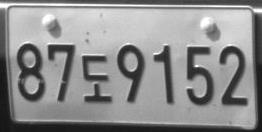1: (151, 44, 179, 104)
2: (219, 44, 249, 105)
5: (184, 46, 214, 106)
7: (47, 44, 75, 102)
8: (15, 42, 46, 102)
9: (116, 43, 145, 103)
도: (81, 54, 112, 102)
